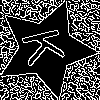K: (21, 24, 75, 68)
